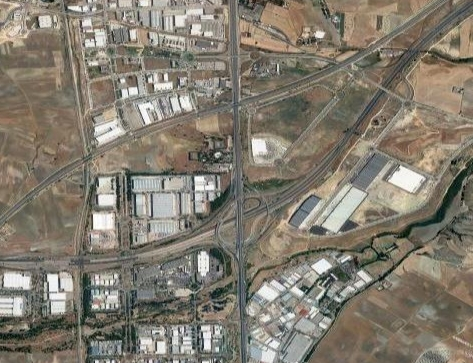industrial: (259, 161, 435, 358), (79, 10, 212, 108), (94, 173, 206, 243)
motorway: (245, 1, 473, 224), (1, 98, 245, 276), (202, 1, 275, 363)
